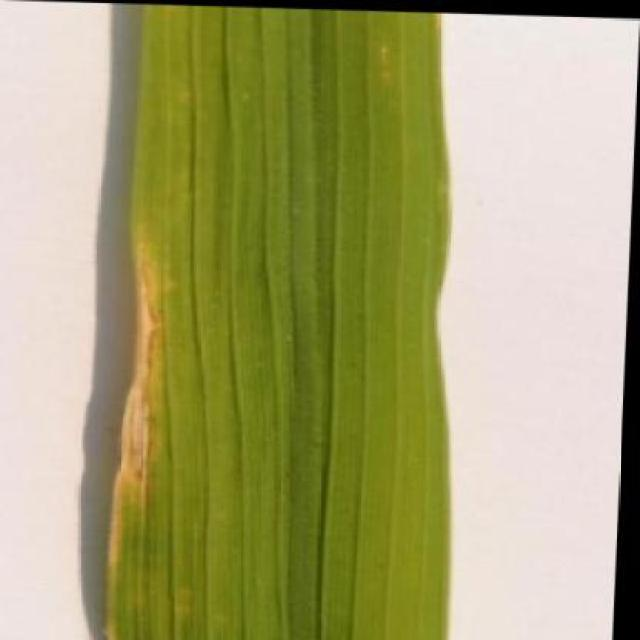Brown_Spot: (104, 3, 484, 640)
